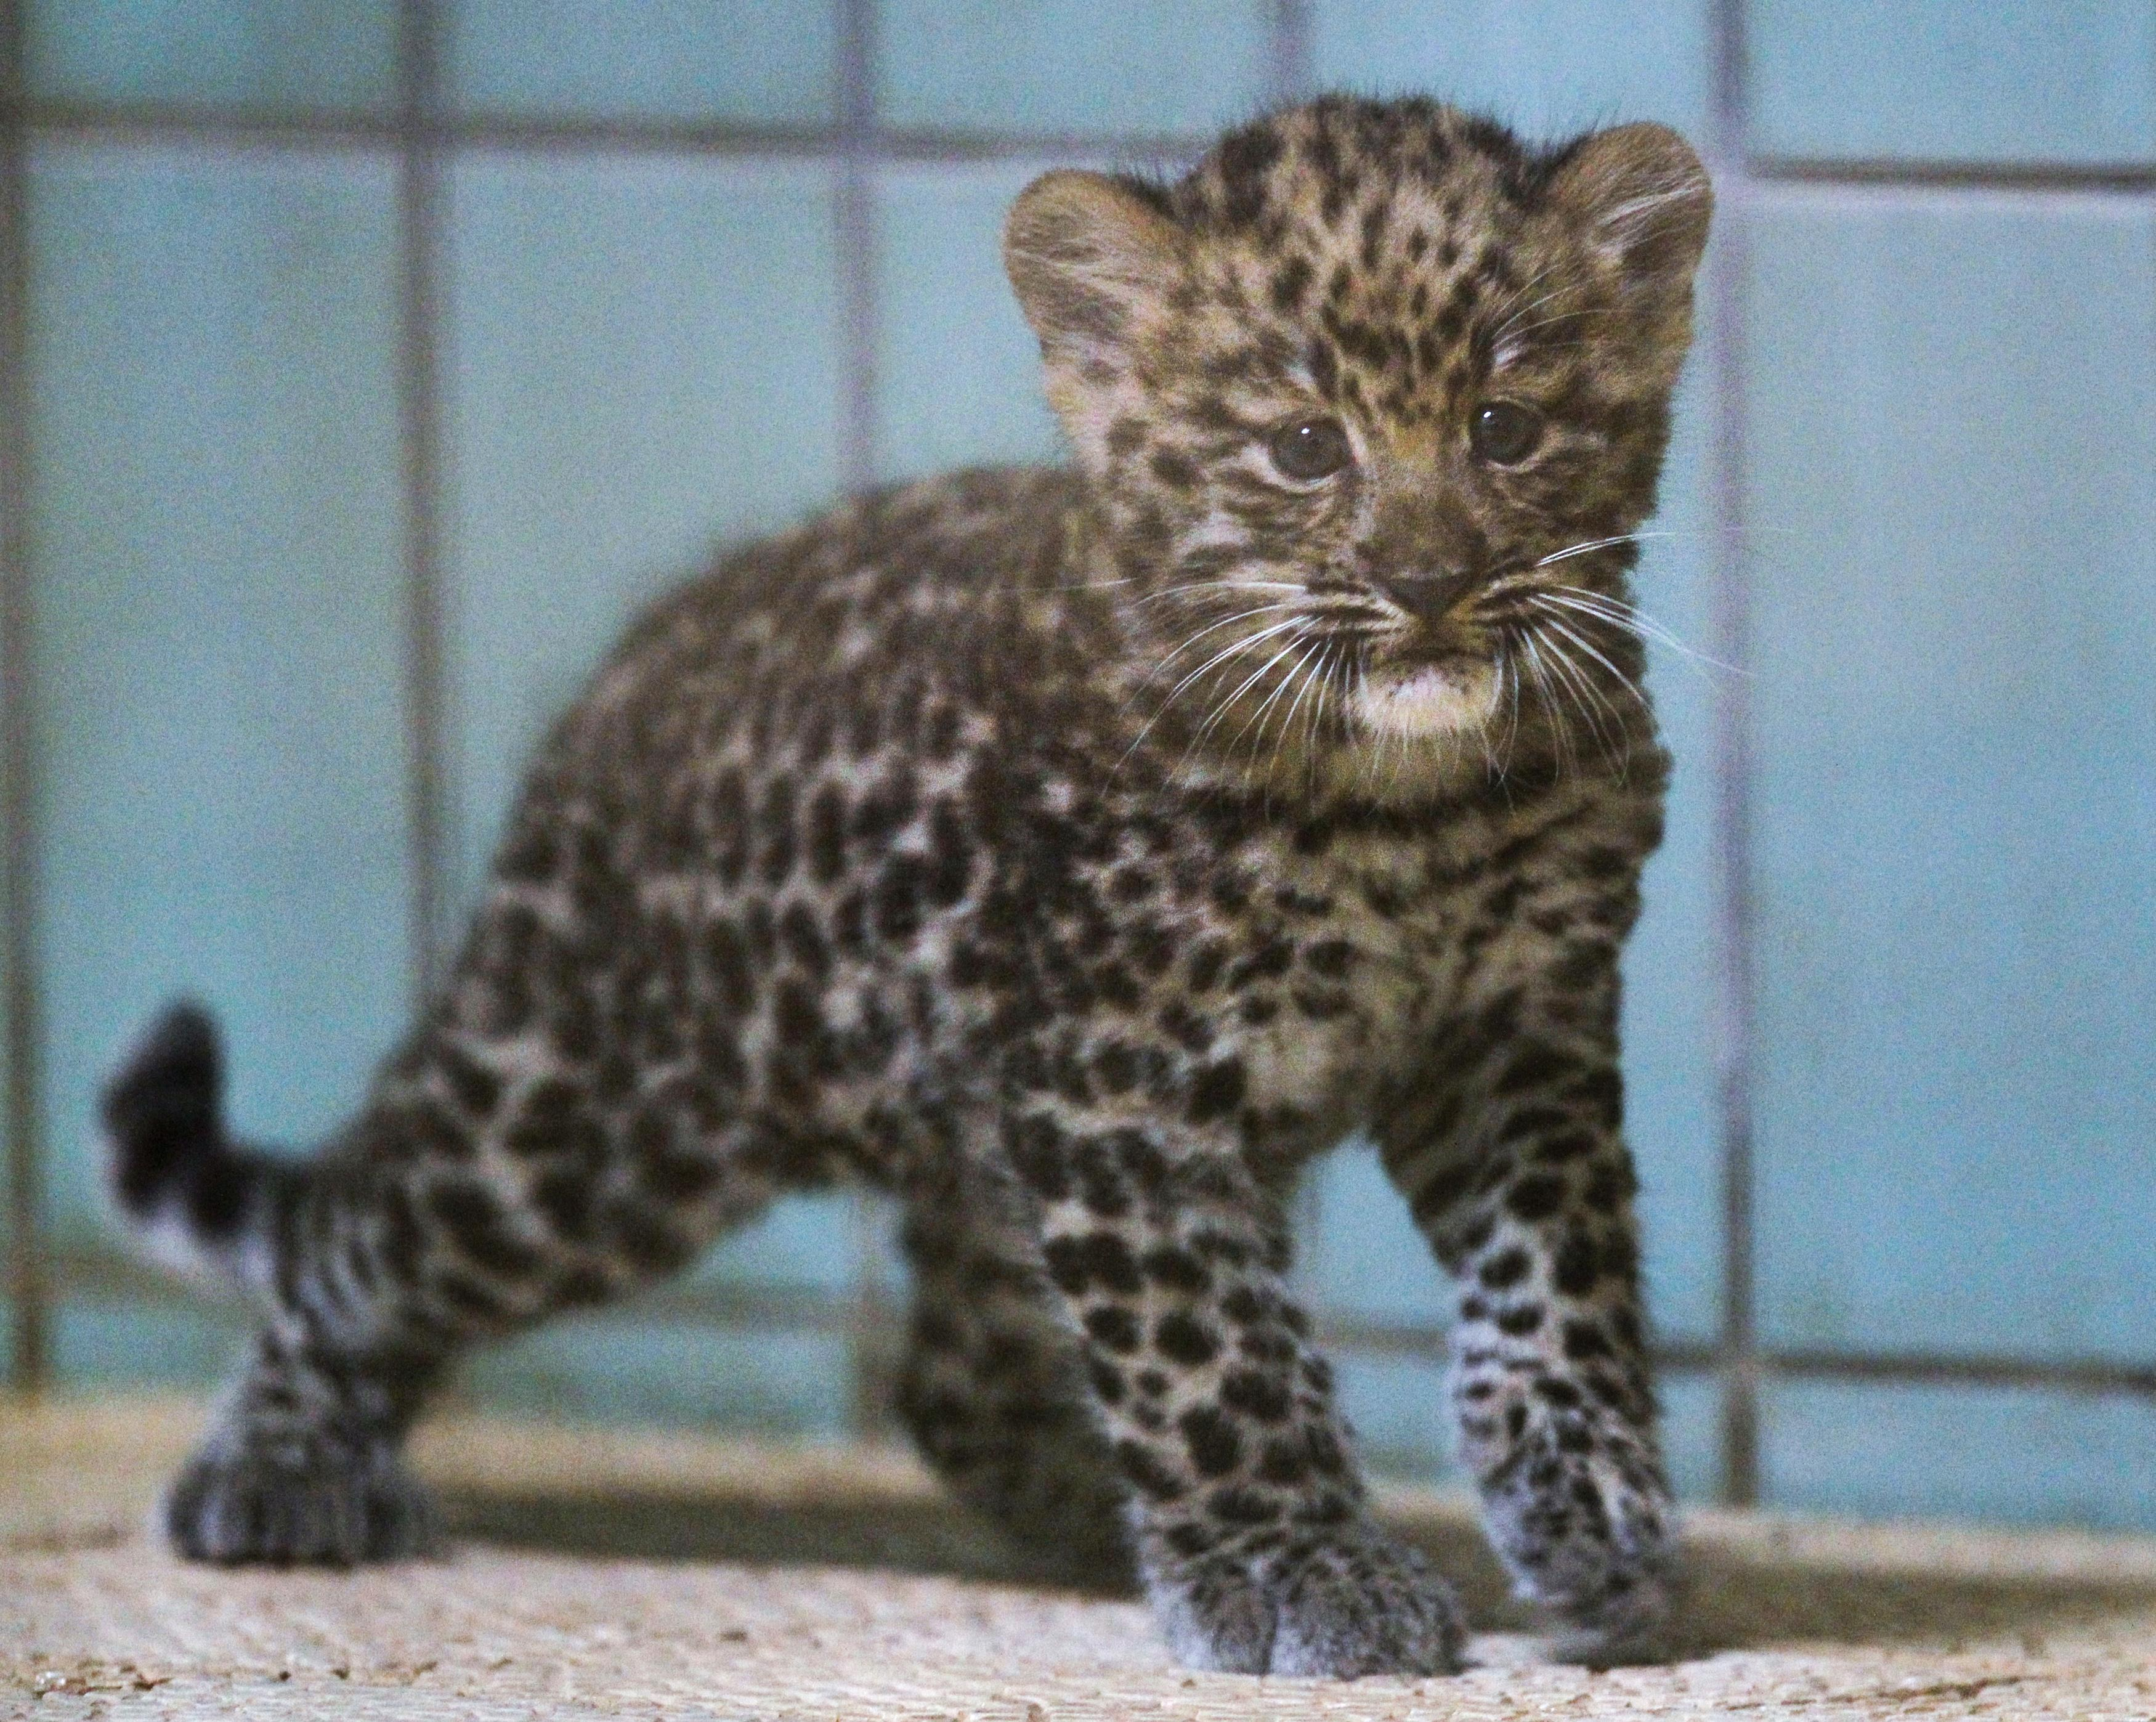amur_leopard: (865, 97, 1820, 1673)
